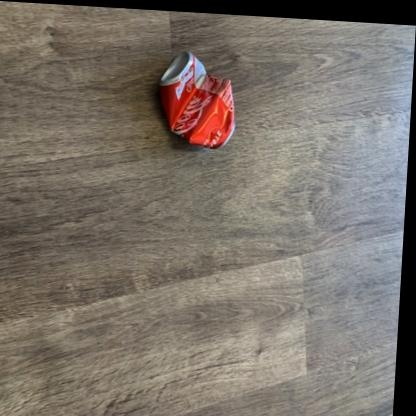trash: (160, 51, 234, 147)
